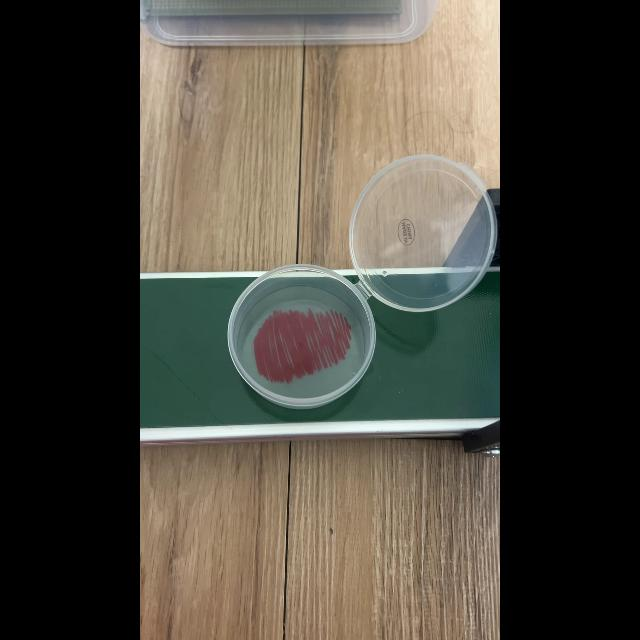dirty: (239, 274, 361, 404)
